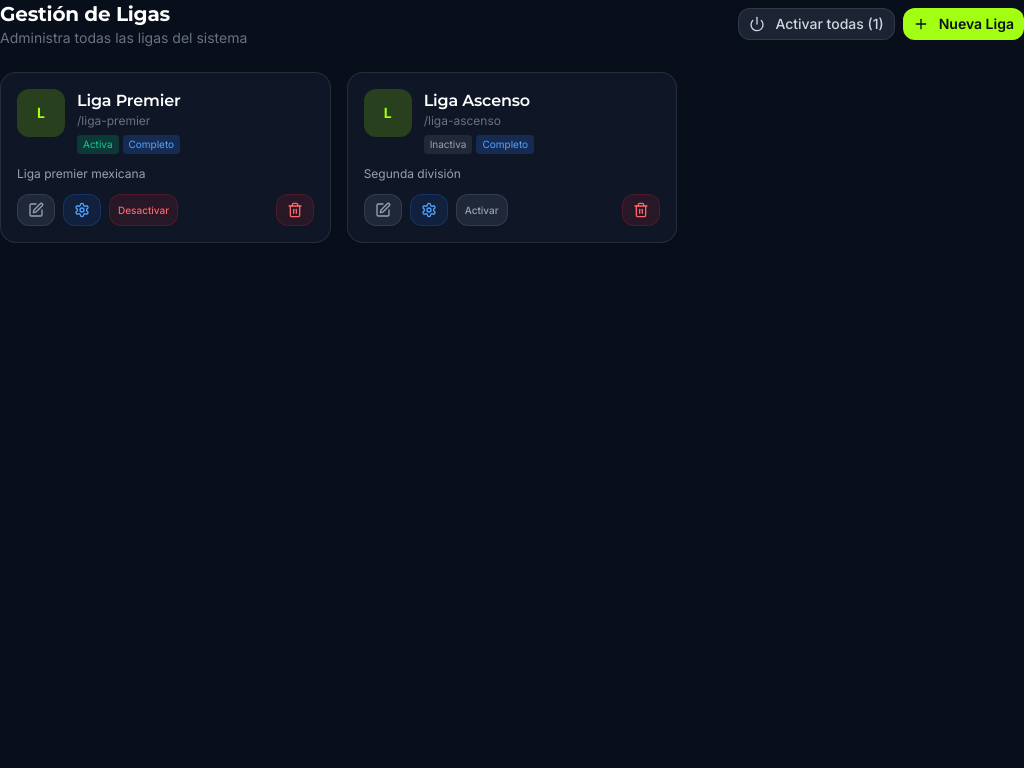
Delete league › lists what is lost, suggests deactivating and sends nothing until confirmed
Expected: the heading "Liga Premier" is shown, [77,91,181,110]
Click the button named "Eliminar Liga Premier". click: [295, 210]
box: [276,194,314,226]
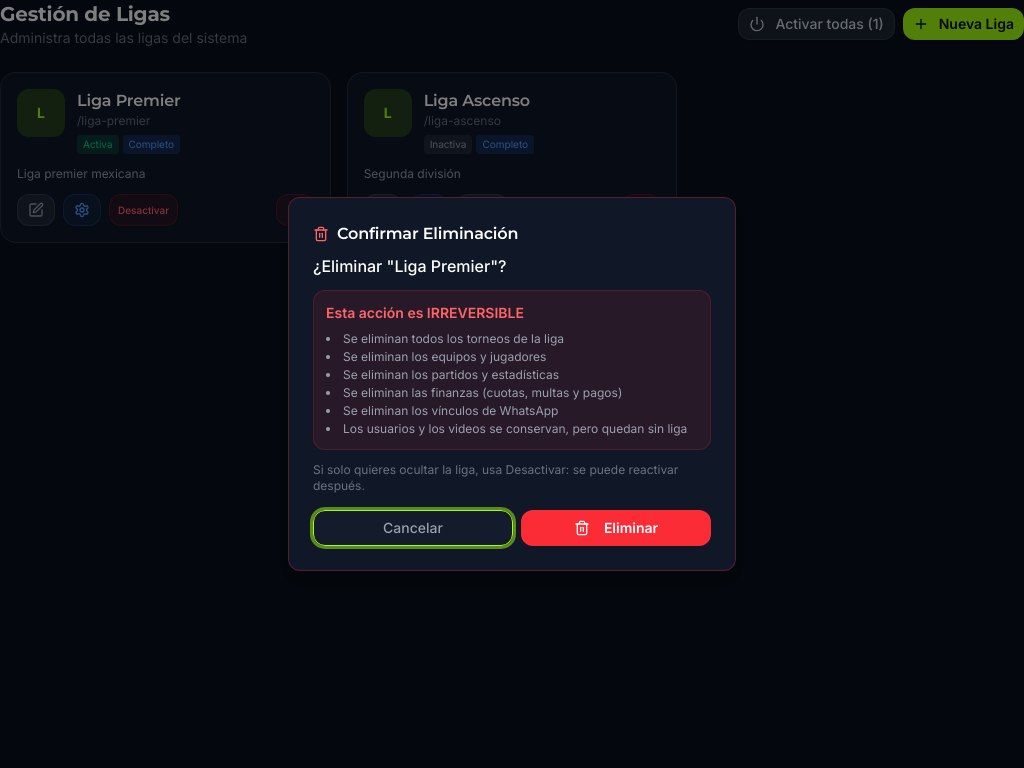
Expected: the dialog "Confirmar Eliminación" shows "¿Eliminar \"Liga Premier\"?", [288,197,736,571]
Expected: the dialog "Confirmar Eliminación" shows "torneos", [343,331,564,346]
Expected: the dialog "Confirmar Eliminación" shows "equipos y jugadores", [343,349,546,364]
Click the button "Eliminar". click: [616, 528]
box: [521,510,711,546]
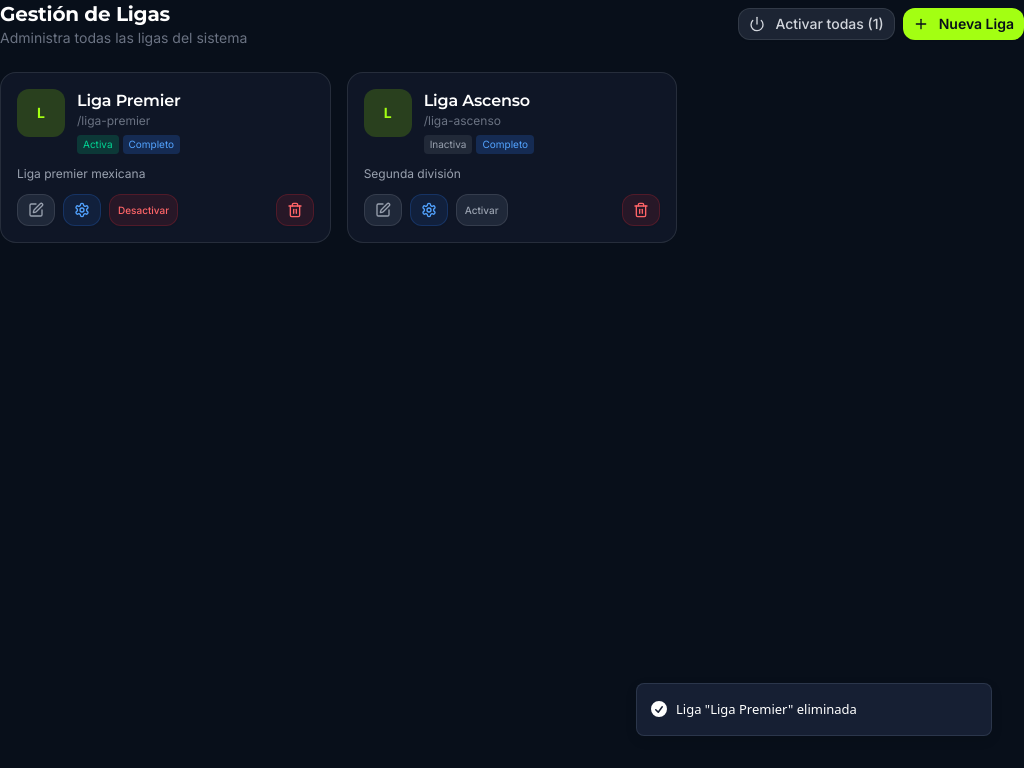
Expected: the text "Liga \"Liga Premier\" eliminada" is shown, [676,700,857,719]
